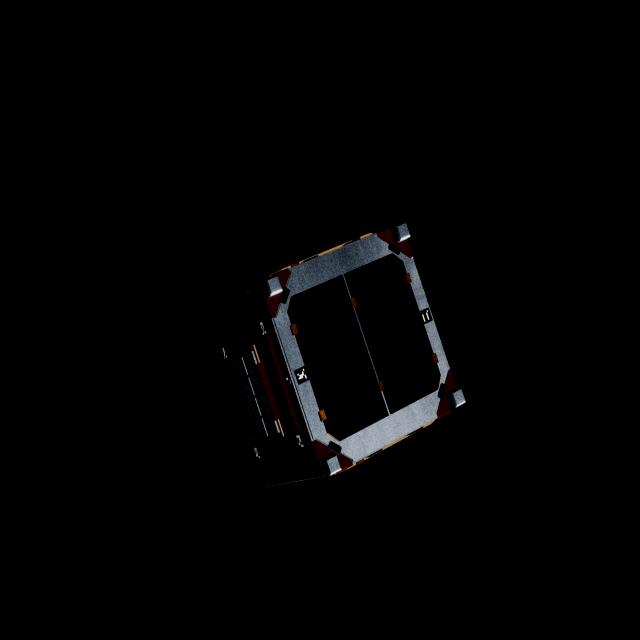medium_debris: (203, 219, 468, 495)
